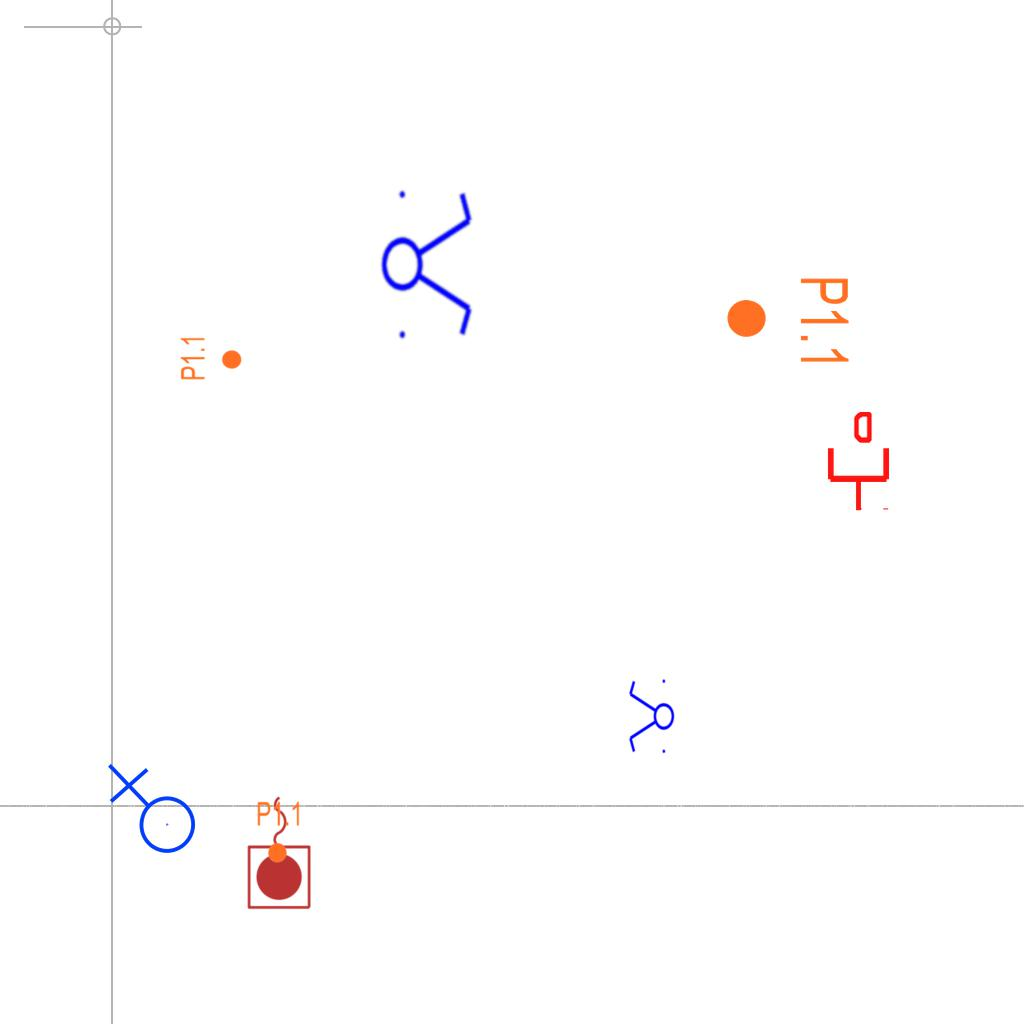Datenanschluss_einfach: (824, 412, 893, 512)
Downlight_LED_Einbauleuchten_Flur: (724, 275, 852, 368), (179, 335, 243, 381), (256, 800, 302, 864)
Elektroanschluss_allgemein_230V_Geraeteanschlussdose_230V: (103, 763, 197, 862)
Serienschalter: (380, 179, 476, 347), (627, 675, 675, 759)
Zugtaster: (244, 791, 316, 913)
